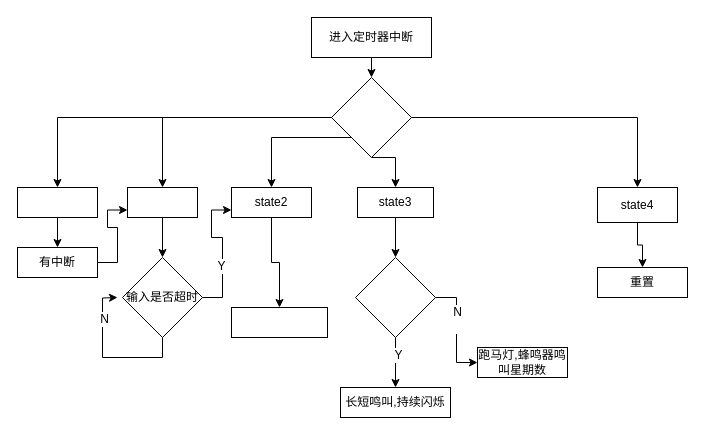
Some shapes in this 705 by 435 pixel diagram are drawn without their labels. Here are the shapes that lost their labels. From the top down, the centre of each, then its label:
At (371,117): "状态判断".
At (57,202): "state0".
At (162,202): "state1".
At (395,297): "个位大于星期".
At (279,322): "led闪烁高位数字".
